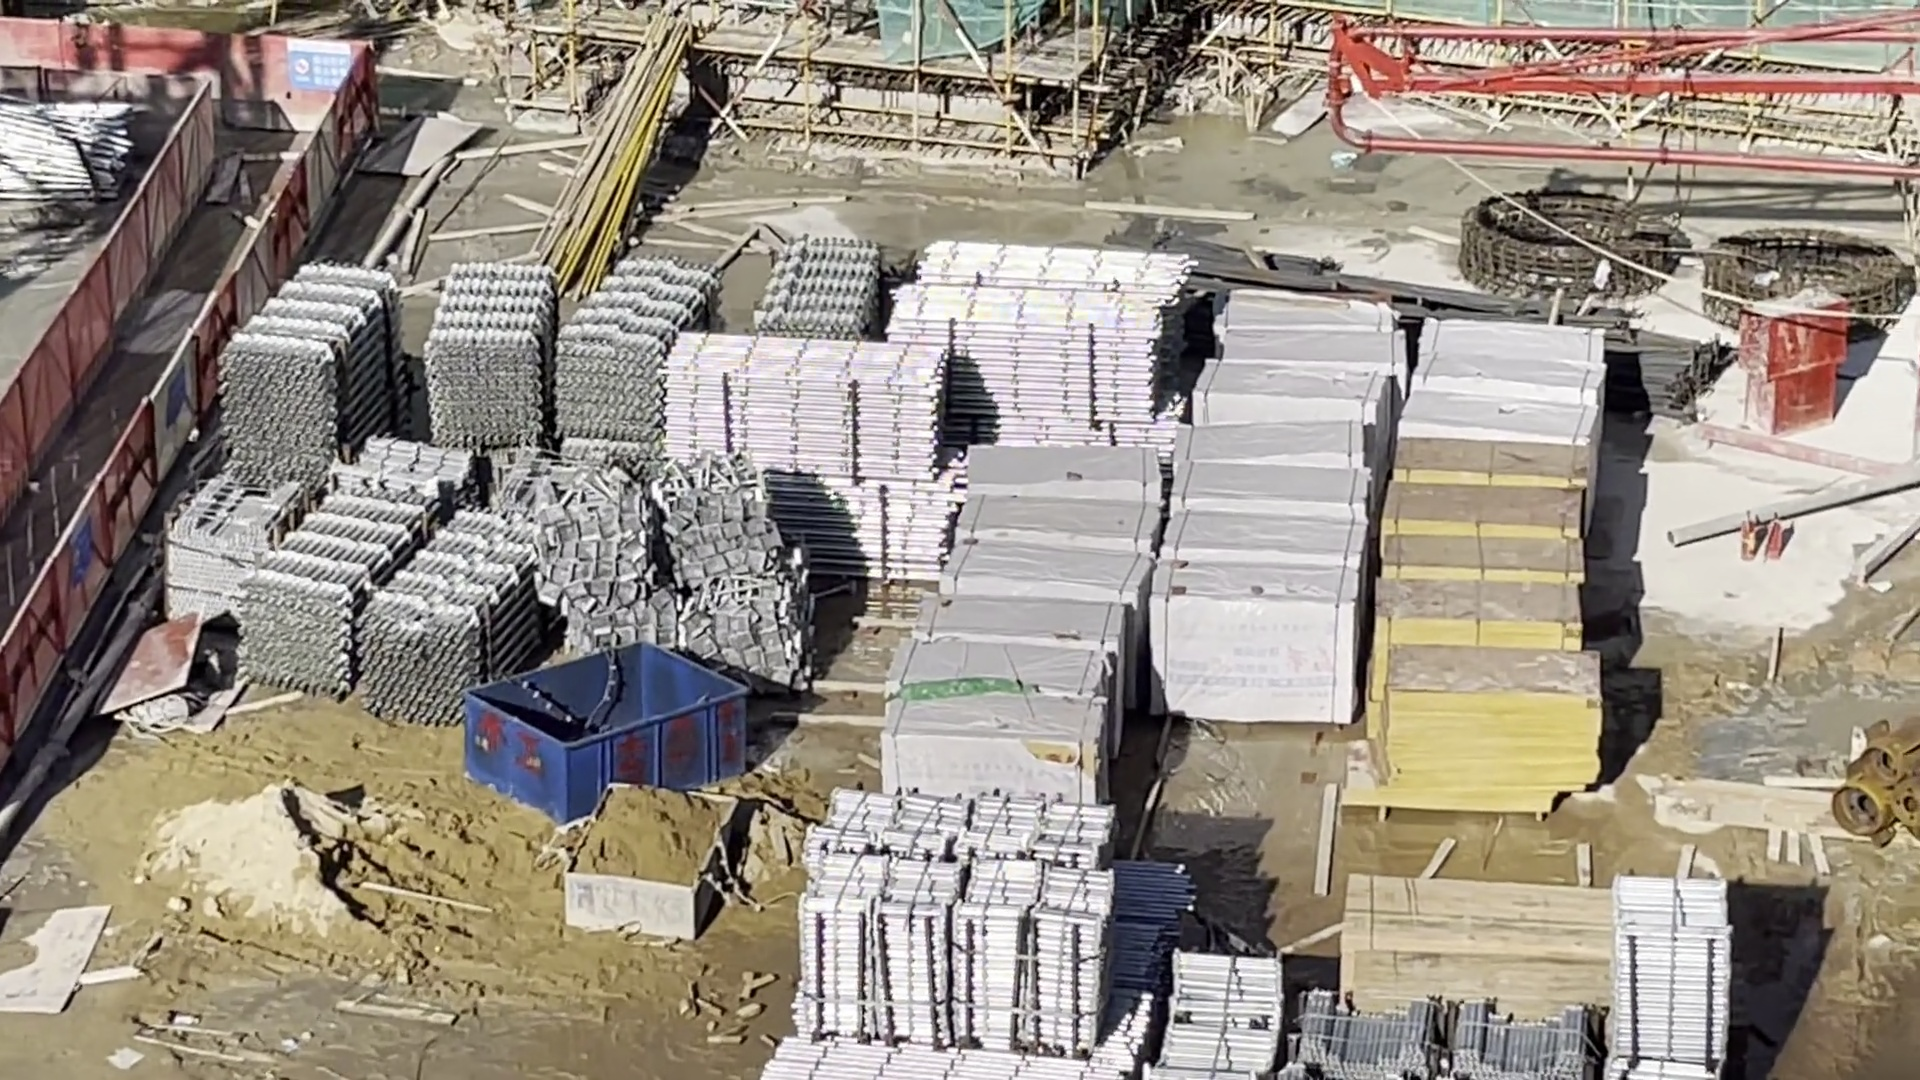board: (1356, 451, 1594, 824), (1336, 876, 1606, 1011)
fence: (1, 80, 338, 789), (1, 15, 282, 127)
hopper: (462, 642, 752, 823), (562, 783, 738, 938)
rebar: (1185, 241, 1717, 404)
scaffold: (802, 796, 1113, 1054), (655, 338, 951, 584), (240, 491, 543, 708), (893, 239, 1174, 447), (419, 258, 717, 446), (223, 266, 394, 479), (1279, 989, 1586, 1080), (1604, 872, 1731, 1080), (1156, 949, 1274, 1080), (758, 241, 885, 338), (1, 113, 123, 199)
slogan: (286, 37, 355, 96), (69, 514, 94, 583)
